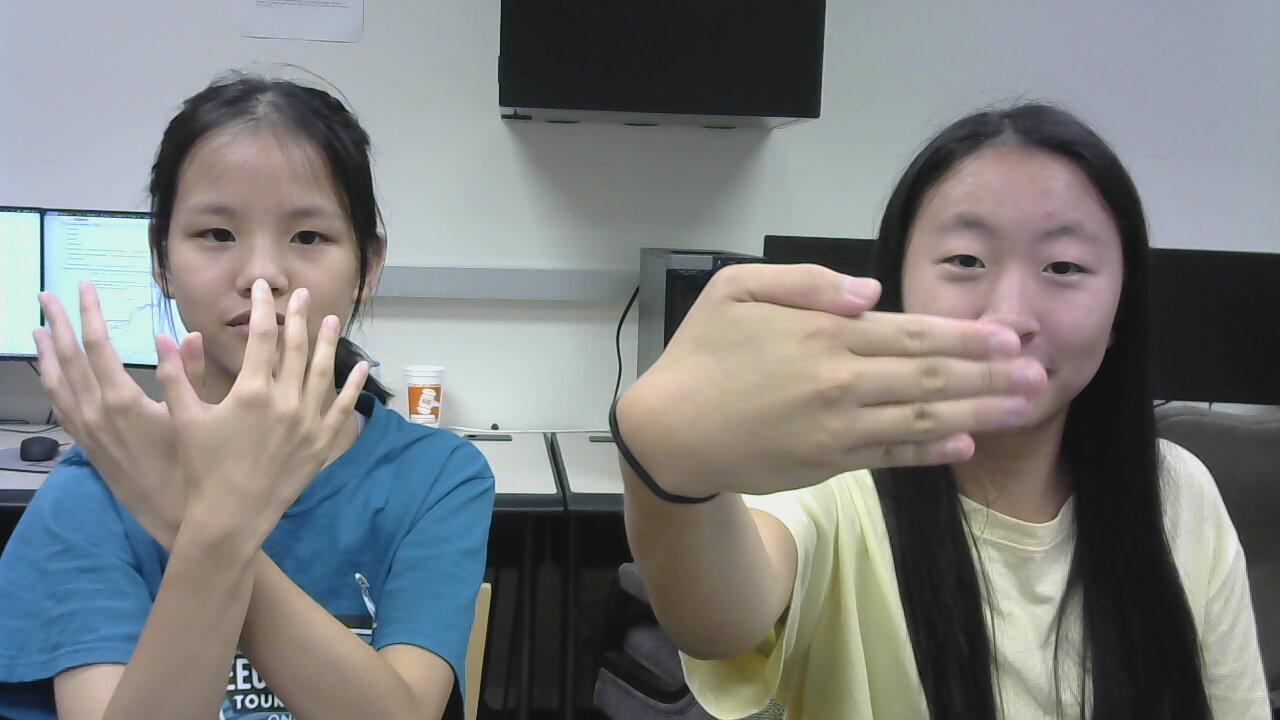hands: (602, 247, 1072, 520), (162, 259, 368, 572), (31, 265, 208, 569)
